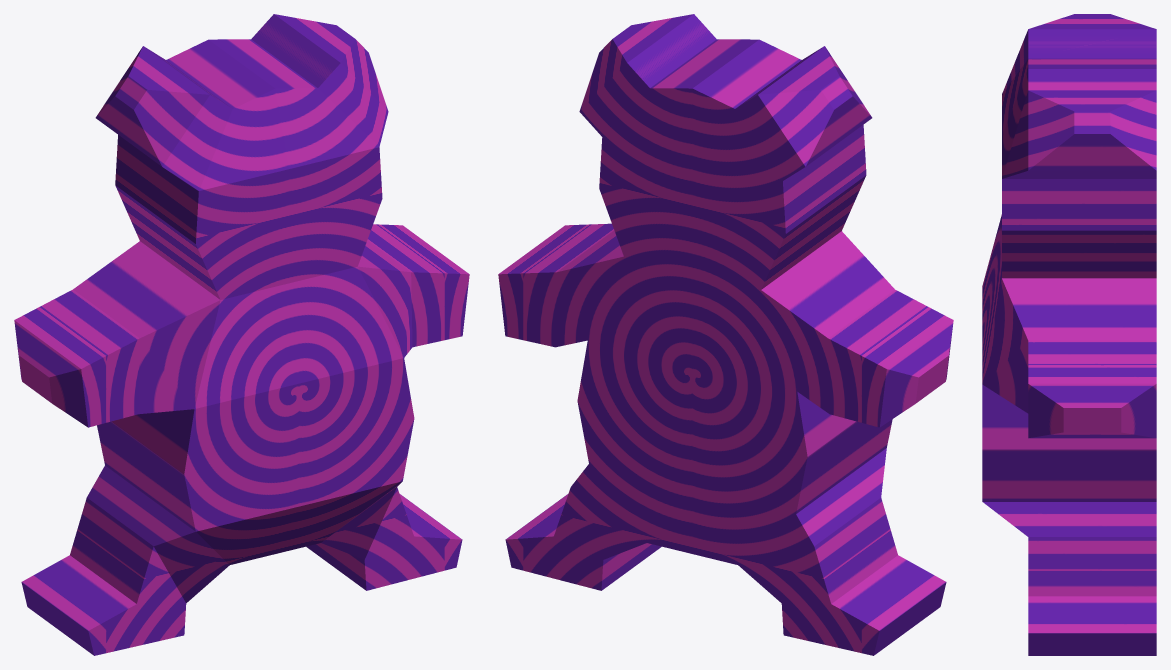
The model's file is enemy_bear.fbx.
The picture shows the model from 3 angles, left to right: view 1: azimuth 30°, elevation 25°; view 2: azimuth 150°, elevation 25°; view 3: azimuth 270°, elevation 25°; orthographic projection. The views are drawn at different scales.
Visible parts, largest first — view 1: mesh_bear; view 2: mesh_bear; view 3: mesh_bear.
Part boxes in pixels (bbox=[...]): mesh_bear: bbox=[14, 14, 469, 655]; mesh_bear: bbox=[498, 14, 953, 655]; mesh_bear: bbox=[982, 14, 1156, 655].
Bounding box in the file's own units: 163 × 200 × 61.73.
